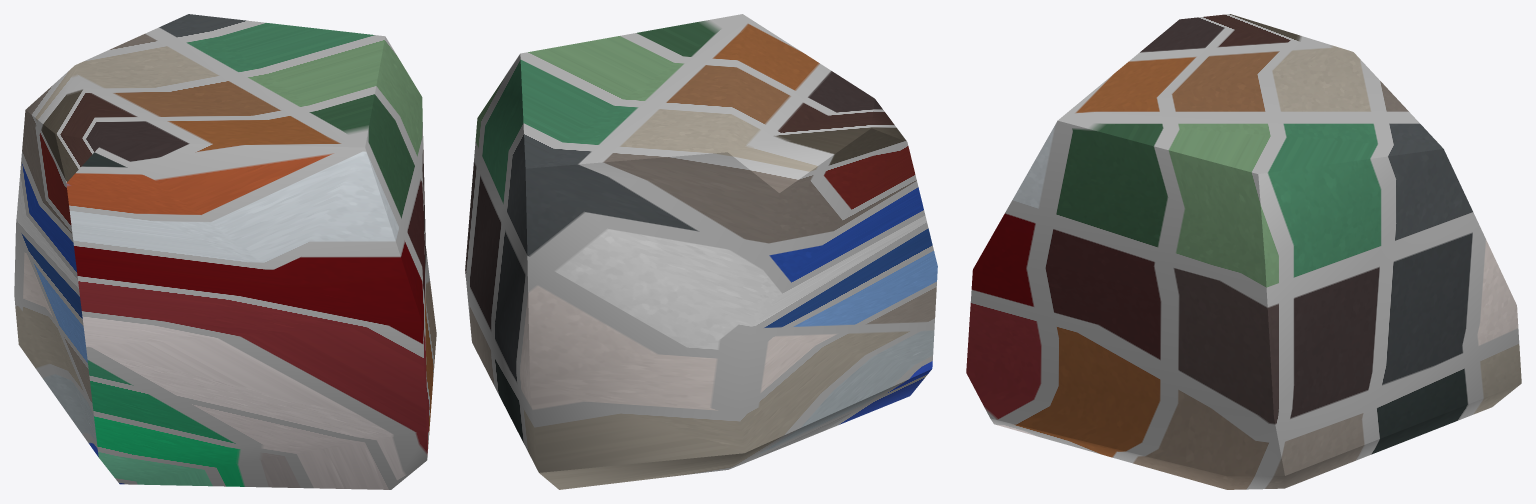
Rendered from Md_Ice_2.fbx.
The picture shows the model from 3 angles, left to right: view 1: azimuth 30°, elevation 25°; view 2: azimuth 150°, elevation 25°; view 3: azimuth 270°, elevation 25°; orthographic projection. The views are drawn at different scales.
Visible parts, largest first — view 1: Md_Stone_Particle; view 2: Md_Stone_Particle; view 3: Md_Stone_Particle.
Boxes of the visible parts, x1,y1,x2,y2 form: Md_Stone_Particle: [14, 14, 436, 489]; Md_Stone_Particle: [465, 14, 937, 489]; Md_Stone_Particle: [966, 14, 1521, 489].
Size of the model in its own units: 6.04 by 4.67 by 7.29.
